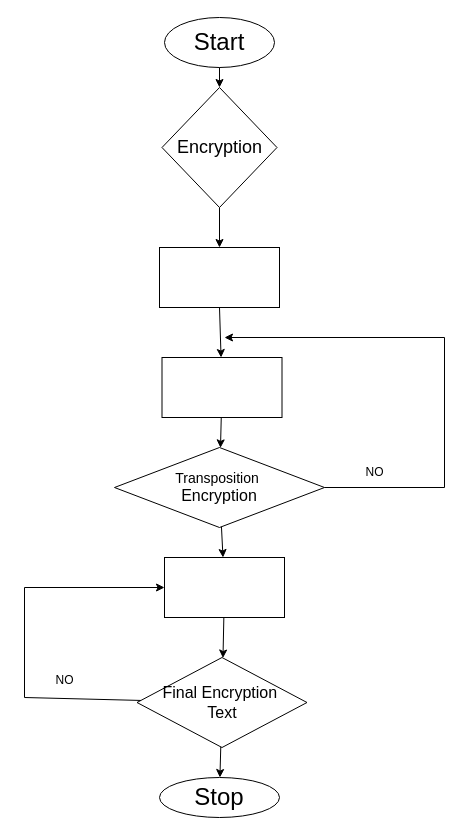
This 470x835 diagram has some shape labels left out. The box of each missing label's shape, as (x1, y1, x2, y2) in pixels:
Encryption with AES 256: (164, 556, 284, 618)
Input Key: (161, 356, 282, 418)
Input Plaintext: (158, 246, 280, 308)
